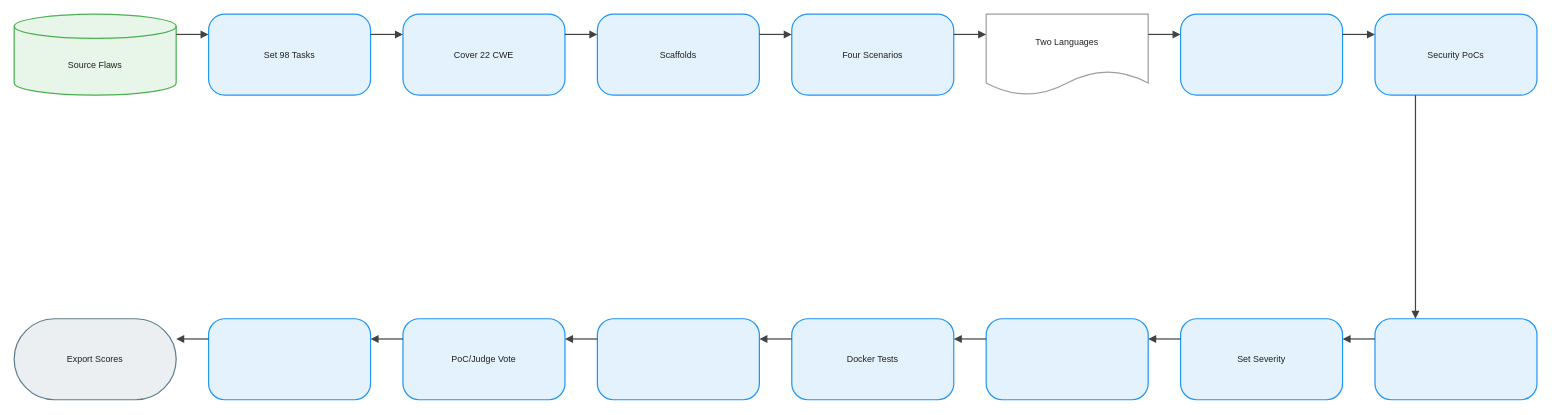
This 1552x415 diagram has some shape labels left out. Each missing label, with the centre of its shape:
"Compute Pass@1" belongs at (289,359).
"Double Review" belongs at (1455,359).
"Function First" belongs at (678,359).
"Function Tests" belongs at (1261,54).
"Init & Prompt" belongs at (1066,359).
